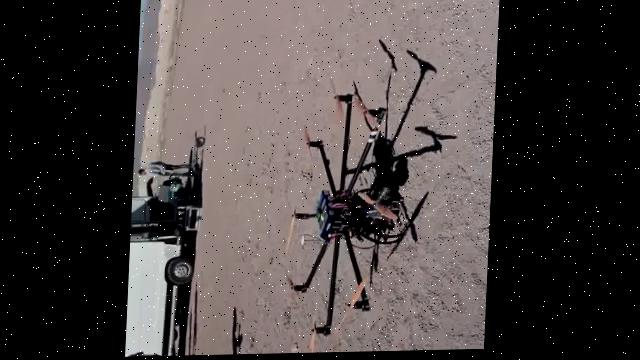drone: (267, 0, 499, 355)
